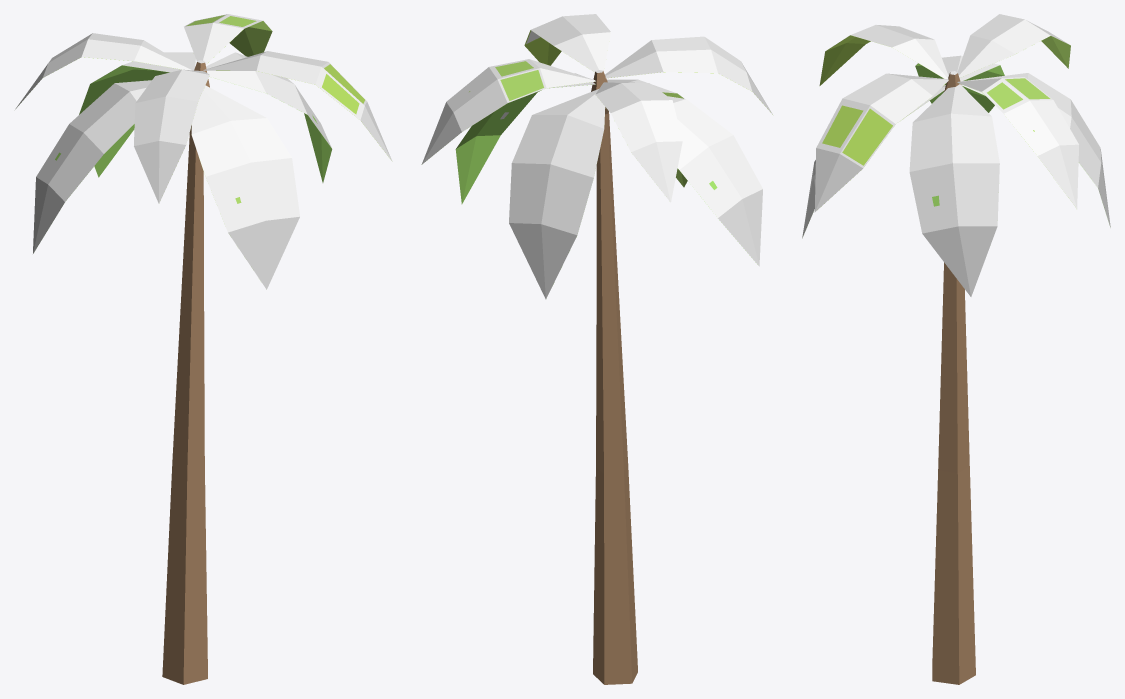
File: Palm_Tree_m_Snow_BT_01.fbx
3 renders of one model, left to right at view 1: azimuth 30°, elevation 25°; view 2: azimuth 150°, elevation 25°; view 3: azimuth 270°, elevation 25°, orthographic.
Parts seen in each view (by area): view 1: Palm_Tree_m_Snow_BT_01; view 2: Palm_Tree_m_Snow_BT_01; view 3: Palm_Tree_m_Snow_BT_01.
Boxes of the visible parts, x1,y1,x2,y2 form: Palm_Tree_m_Snow_BT_01: [15, 14, 392, 684]; Palm_Tree_m_Snow_BT_01: [421, 14, 772, 684]; Palm_Tree_m_Snow_BT_01: [802, 14, 1110, 684].
Bounding box in the file's own units: 298 × 601 × 269.
